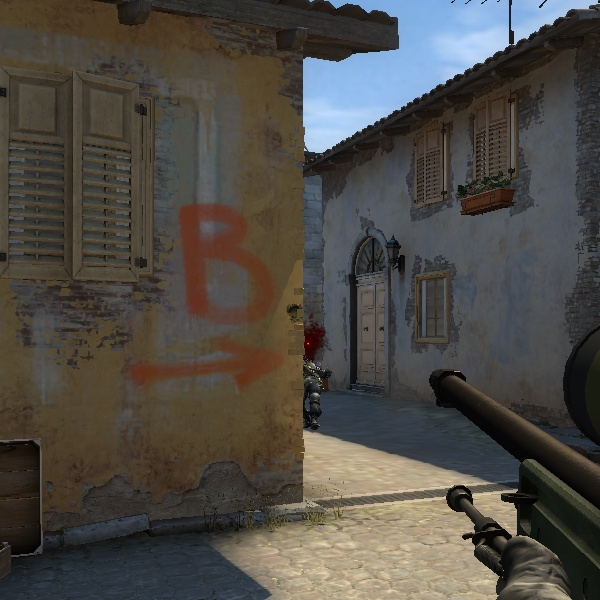ct_body: (300, 352, 328, 432)
